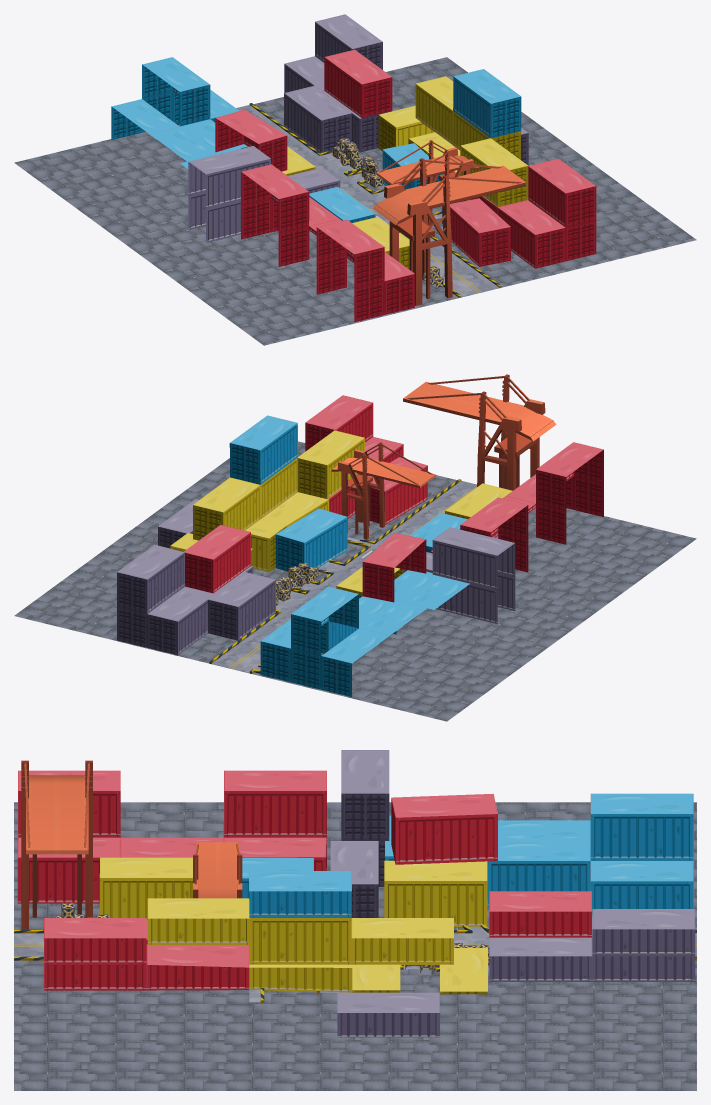
File: scene_city_04.FBX
3 views of the same model, one above another, from view 1: azimuth 30°, elevation 25°; view 2: azimuth 150°, elevation 25°; view 3: azimuth 270°, elevation 25° (orthographic). The views are drawn at different scales.
Visible parts, largest first — view 1: scene_city_04; view 2: scene_city_04; view 3: scene_city_04.
Part boxes in pixels (box(x1,y1,x2,y2)): scene_city_04: box(14, 14, 696, 345); scene_city_04: box(14, 374, 696, 721); scene_city_04: box(14, 750, 696, 1090).
Size of the model in its own units: 10000 by 2709 by 10000.
